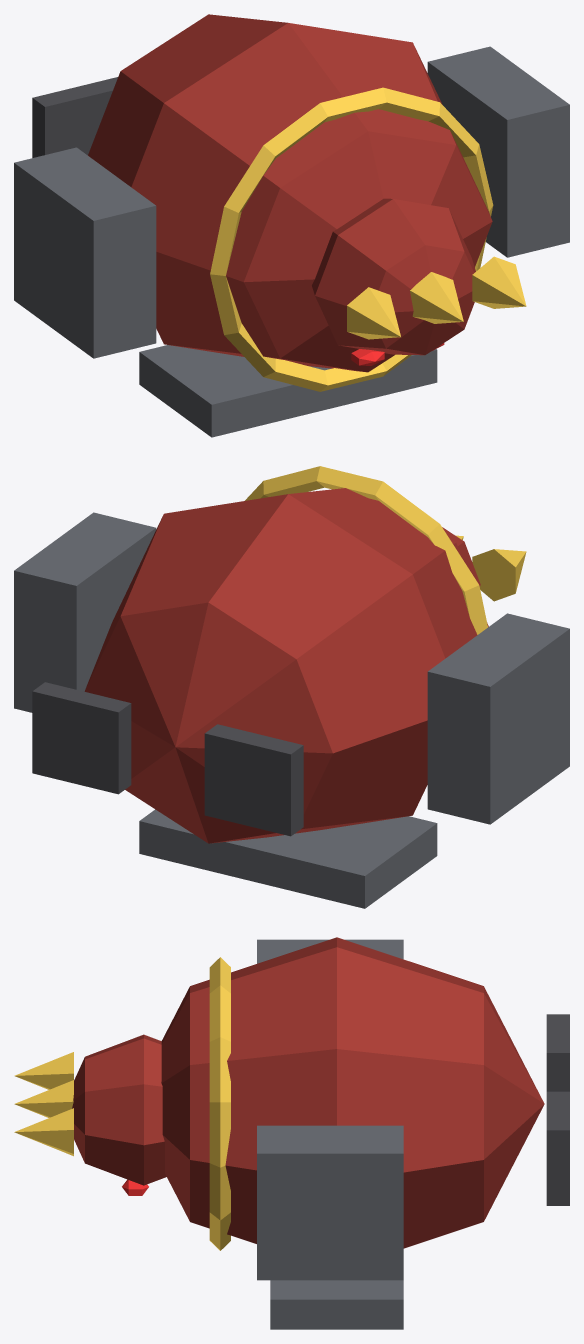
File: TD_Enemy_Boss.fbx
3 renders of one model, top to bottom at view 1: azimuth 30°, elevation 25°; view 2: azimuth 150°, elevation 25°; view 3: azimuth 270°, elevation 25°, orthographic. The views are drawn at different scales.
Parts seen in each view (by area): view 1: TD_Enemy_Boss_Body, TD_Enemy_Boss_HugeArmorPlate_Left, TD_Enemy_Boss_HugeArmorPlate_Right, TD_Enemy_Boss_Head, TD_Enemy_Boss_HugeArmorPlate_Front, TD_Enemy_Boss_BossGoldRing, TD_Enemy_Boss_Foot_Left, TD_Enemy_Boss_BossCrownPoint_3, TD_Enemy_Boss_BossCrownPoint_1, TD_Enemy_Boss_BossCrownPoint_2; view 2: TD_Enemy_Boss_Body, TD_Enemy_Boss_HugeArmorPlate_Left, TD_Enemy_Boss_HugeArmorPlate_Right, TD_Enemy_Boss_HugeArmorPlate_Front, TD_Enemy_Boss_Foot_Left, TD_Enemy_Boss_Foot_Right, TD_Enemy_Boss_BossGoldRing, TD_Enemy_Boss_BossCrownPoint_1; view 3: TD_Enemy_Boss_Body, TD_Enemy_Boss_HugeArmorPlate_Right, TD_Enemy_Boss_Head, TD_Enemy_Boss_HugeArmorPlate_Front, TD_Enemy_Boss_BossGoldRing, TD_Enemy_Boss_Foot_Right, TD_Enemy_Boss_Foot_Left, TD_Enemy_Boss_HugeArmorPlate_Left, TD_Enemy_Boss_BossCrownPoint_3, TD_Enemy_Boss_BossCrownPoint_1, TD_Enemy_Boss_BossCrownPoint_2.
Boxes of the visible parts, x1=… form: TD_Enemy_Boss_Body: x1=88, y1=14, x2=492, y2=372; TD_Enemy_Boss_HugeArmorPlate_Left: x1=14, y1=147, x2=156, y2=358; TD_Enemy_Boss_HugeArmorPlate_Right: x1=427, y1=46, x2=569, y2=257; TD_Enemy_Boss_Head: x1=312, y1=198, x2=475, y2=355; TD_Enemy_Boss_HugeArmorPlate_Front: x1=139, y1=345, x2=437, y2=437; TD_Enemy_Boss_BossGoldRing: x1=210, y1=87, x2=493, y2=391; TD_Enemy_Boss_Foot_Left: x1=32, y1=77, x2=117, y2=157; TD_Enemy_Boss_BossCrownPoint_3: x1=472, y1=256, x2=526, y2=308; TD_Enemy_Boss_BossCrownPoint_1: x1=347, y1=287, x2=400, y2=339; TD_Enemy_Boss_BossCrownPoint_2: x1=410, y1=272, x2=463, y2=323; TD_Enemy_Boss_Body: x1=84, y1=488, x2=488, y2=843; TD_Enemy_Boss_HugeArmorPlate_Left: x1=427, y1=613, x2=569, y2=824; TD_Enemy_Boss_HugeArmorPlate_Right: x1=14, y1=512, x2=156, y2=712; TD_Enemy_Boss_HugeArmorPlate_Front: x1=139, y1=809, x2=437, y2=908; TD_Enemy_Boss_Foot_Left: x1=204, y1=724, x2=303, y2=836; TD_Enemy_Boss_Foot_Right: x1=32, y1=682, x2=131, y2=794; TD_Enemy_Boss_BossGoldRing: x1=245, y1=466, x2=487, y2=634; TD_Enemy_Boss_BossCrownPoint_1: x1=472, y1=549, x2=526, y2=601; TD_Enemy_Boss_Body: x1=161, y1=937, x2=544, y2=1248; TD_Enemy_Boss_HugeArmorPlate_Right: x1=257, y1=1125, x2=403, y2=1280; TD_Enemy_Boss_Head: x1=72, y1=1034, x2=166, y2=1185; TD_Enemy_Boss_HugeArmorPlate_Front: x1=270, y1=1280, x2=403, y2=1329; TD_Enemy_Boss_BossGoldRing: x1=209, y1=957, x2=230, y2=1250; TD_Enemy_Boss_Foot_Right: x1=546, y1=1091, x2=569, y2=1205; TD_Enemy_Boss_Foot_Left: x1=546, y1=1014, x2=569, y2=1091; TD_Enemy_Boss_HugeArmorPlate_Left: x1=257, y1=939, x2=403, y2=963; TD_Enemy_Boss_BossCrownPoint_3: x1=14, y1=1108, x2=73, y2=1156; TD_Enemy_Boss_BossCrownPoint_1: x1=14, y1=1052, x2=73, y2=1089; TD_Enemy_Boss_BossCrownPoint_2: x1=14, y1=1080, x2=73, y2=1117.
Size of the model in its own units: 1.52 by 1.1 by 1.67.
